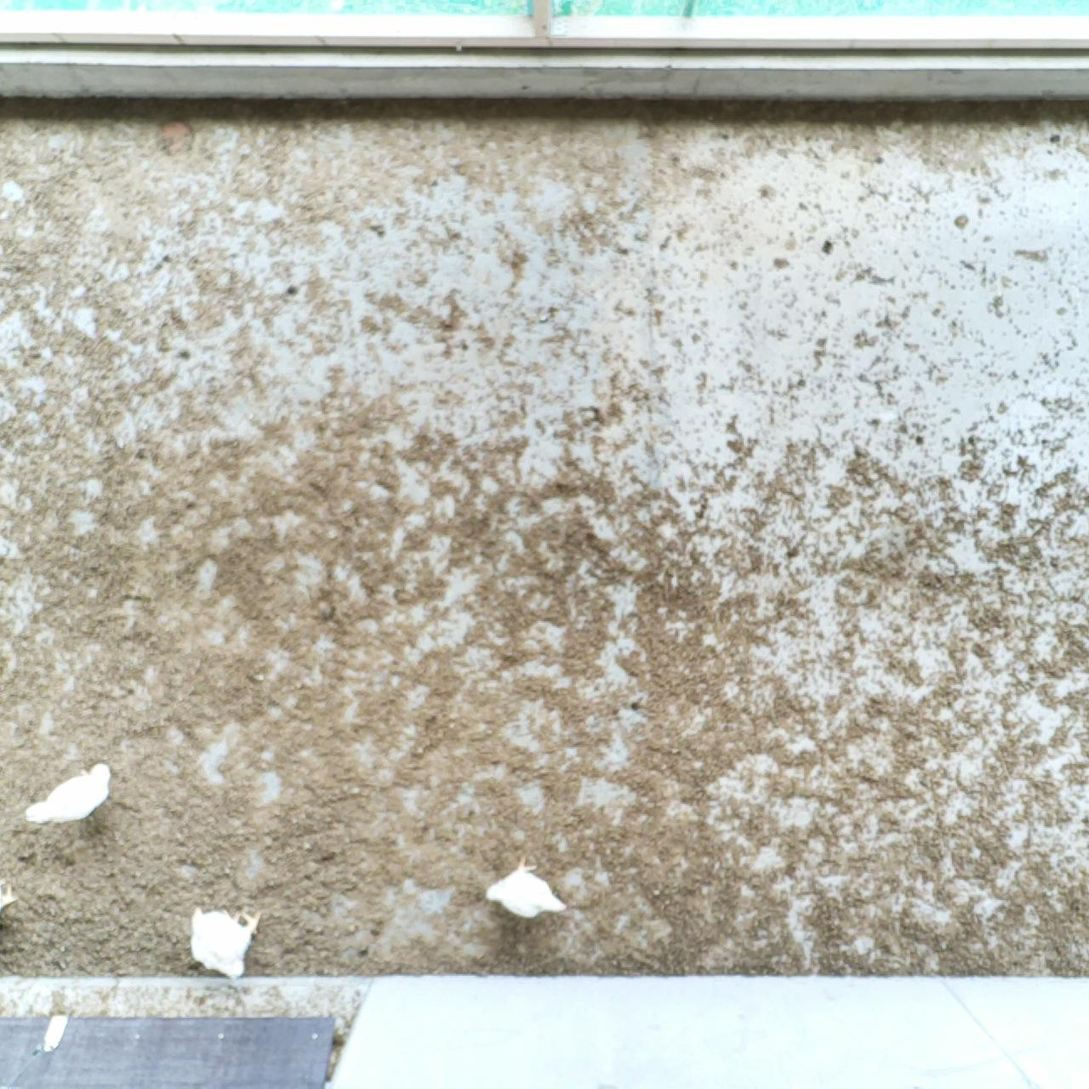chicken: (178, 899, 267, 986), (478, 852, 573, 927), (21, 756, 117, 830)
